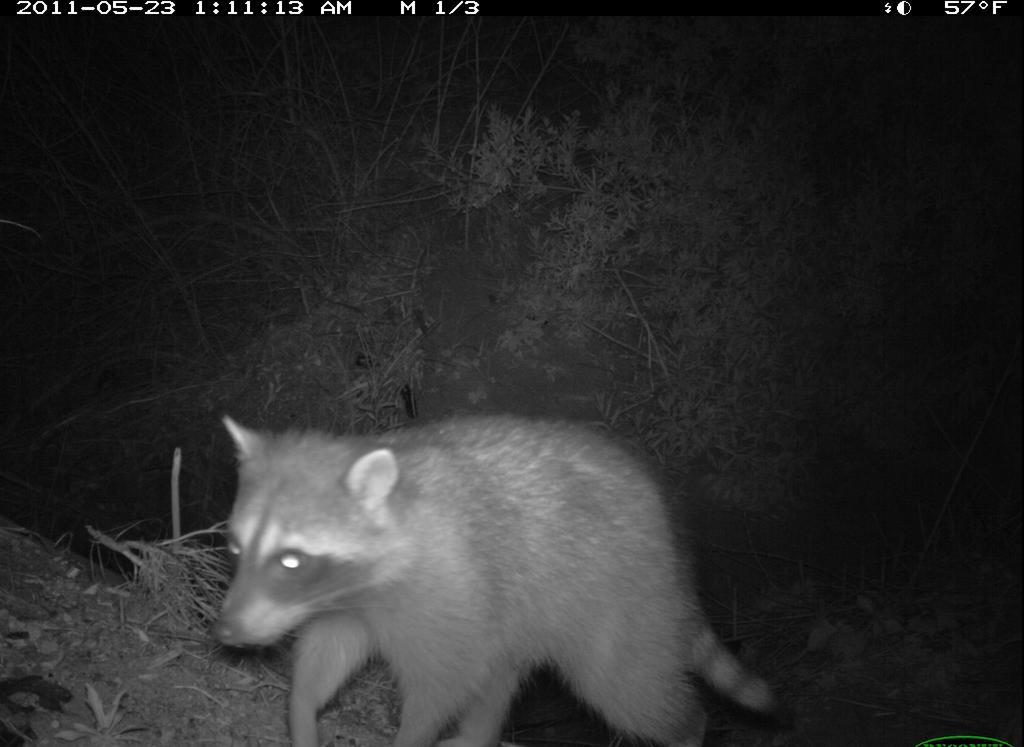raccoon: (198, 383, 799, 747)
